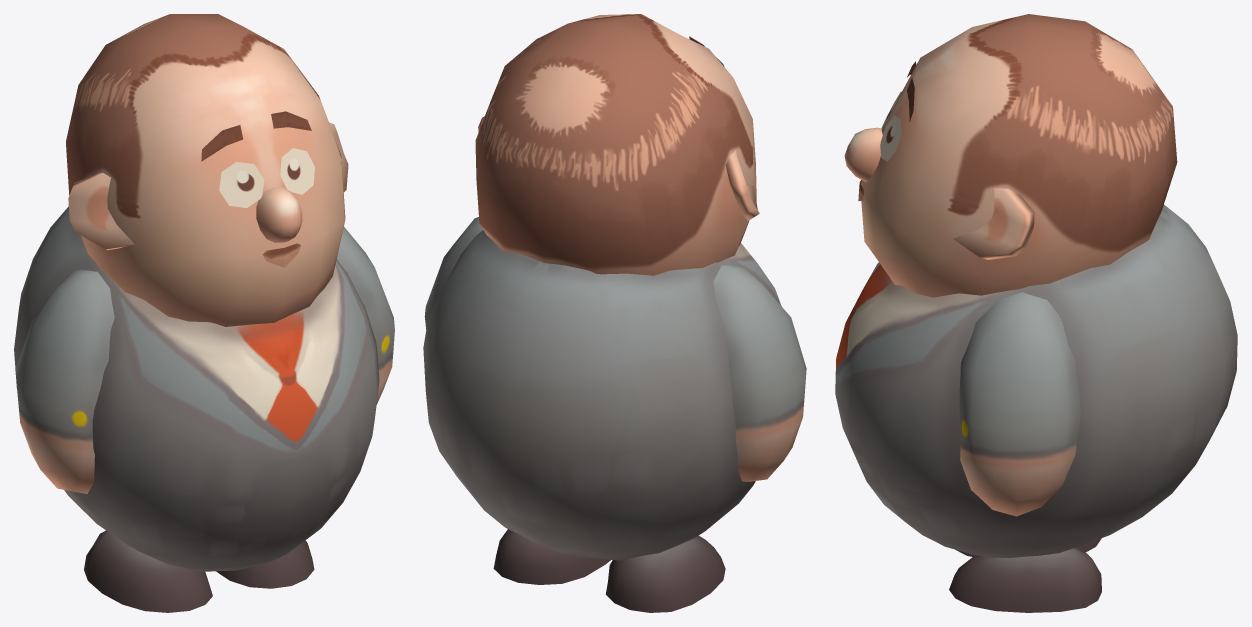
The model's file is SAD_art_chr_fbx_male.fbx.
3 views of the same model, side by side, from view 1: azimuth 30°, elevation 25°; view 2: azimuth 150°, elevation 25°; view 3: azimuth 270°, elevation 25° (orthographic).
Visible parts, largest first — view 1: NPC_Male, Face_male_passive; view 2: NPC_Male; view 3: NPC_Male, Face_male_passive.
Boxes of the visible parts, x1,y1,x2,y2 form: NPC_Male: (14,14,394,612); Face_male_passive: (201,111,314,267); NPC_Male: (423,14,806,612); NPC_Male: (835,14,1237,612); Face_male_passive: (858,61,916,201).
Bounding box in the file's own units: 78.59 × 114 × 76.66.
2 materials, 2 textured.
